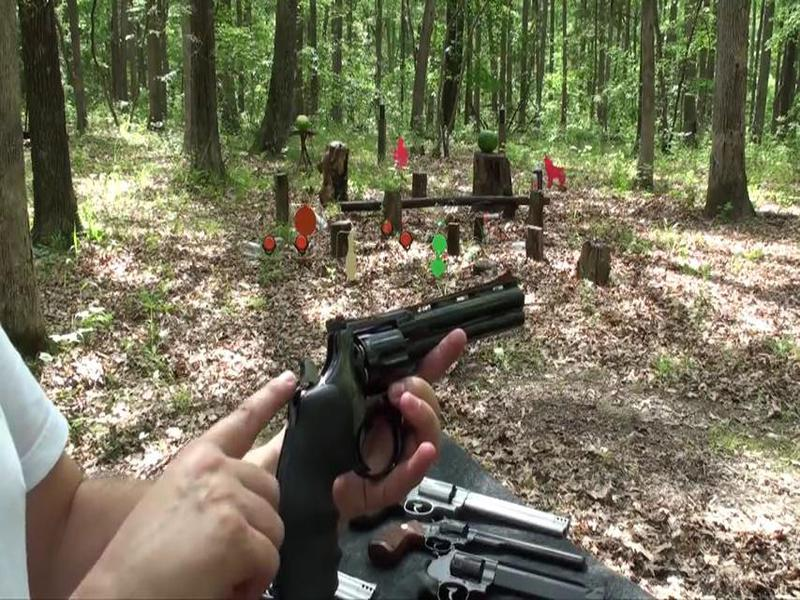Revolver: (230, 240, 557, 600)
